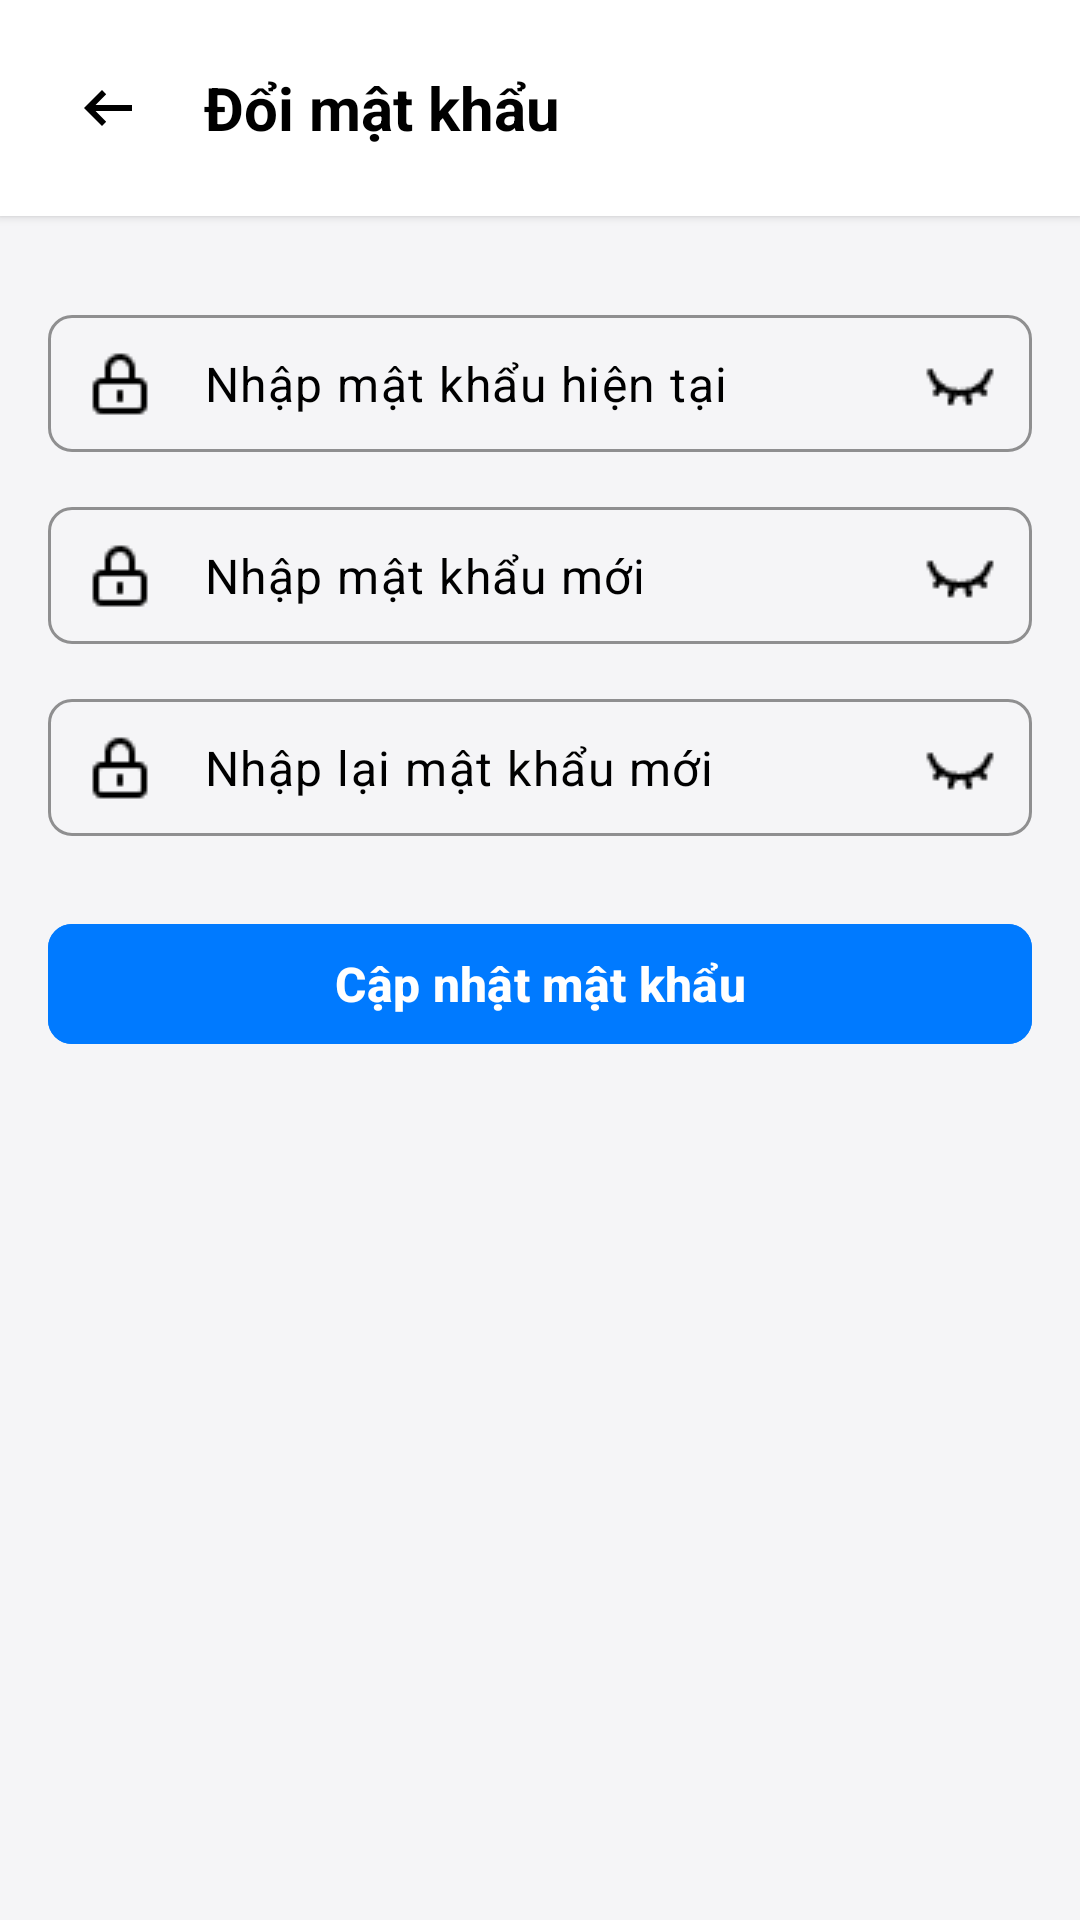

Where to tap for icons on this 1080w x 1920h app screen, as (x,y):
Quay lại: (108,108)
